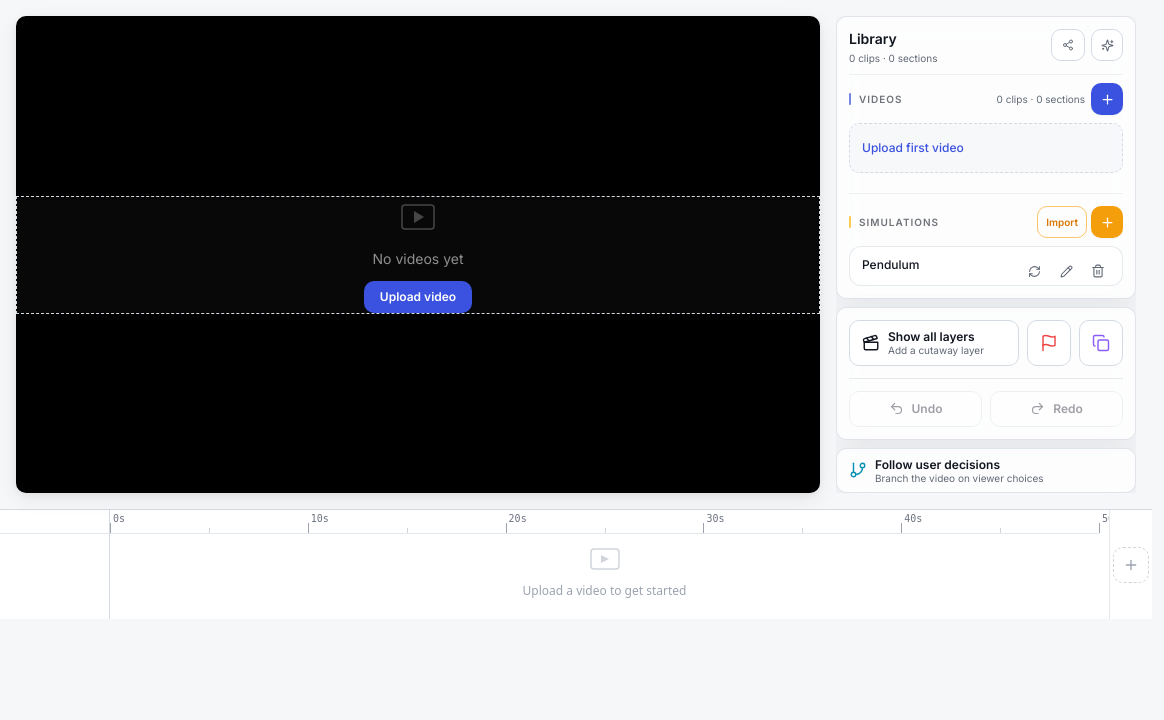
Scenario: editor — simulation rename › rolls the name back and tells the user when the write is rejected
Click the button named "Rename simulation": click(1066, 271) [1050,255,1082,287]
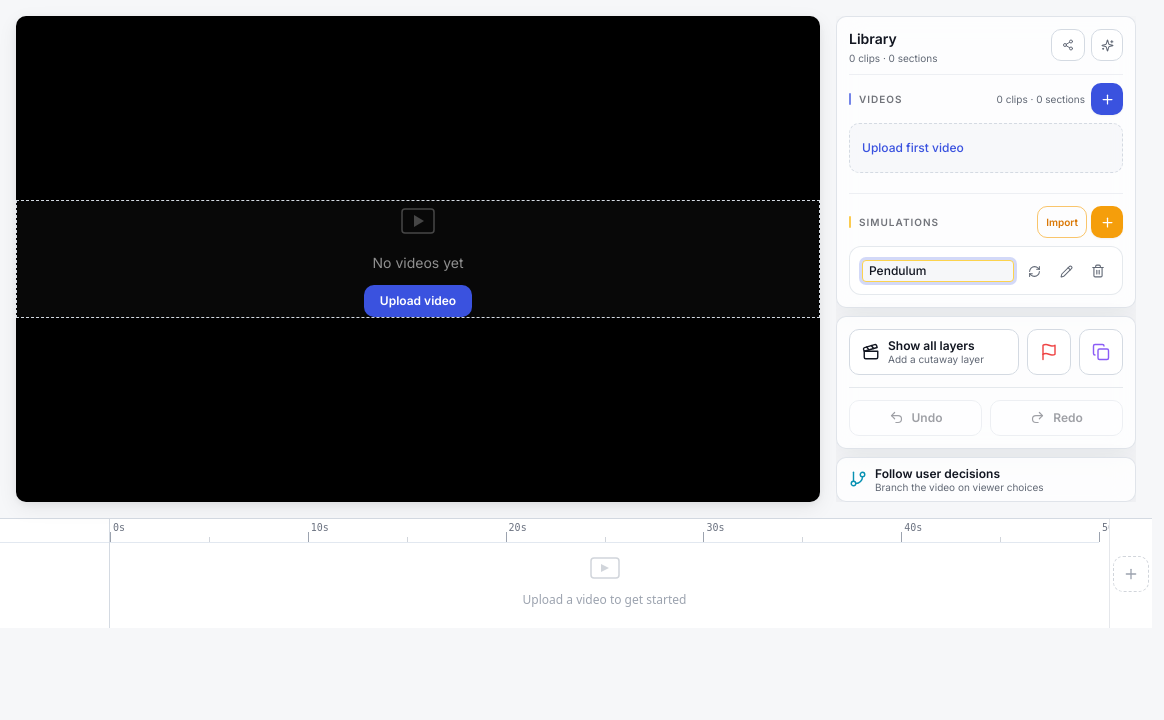
Replace the text in the field named "Simulation name" with "Double pendulum": (938, 271) [862,260,1014,282]
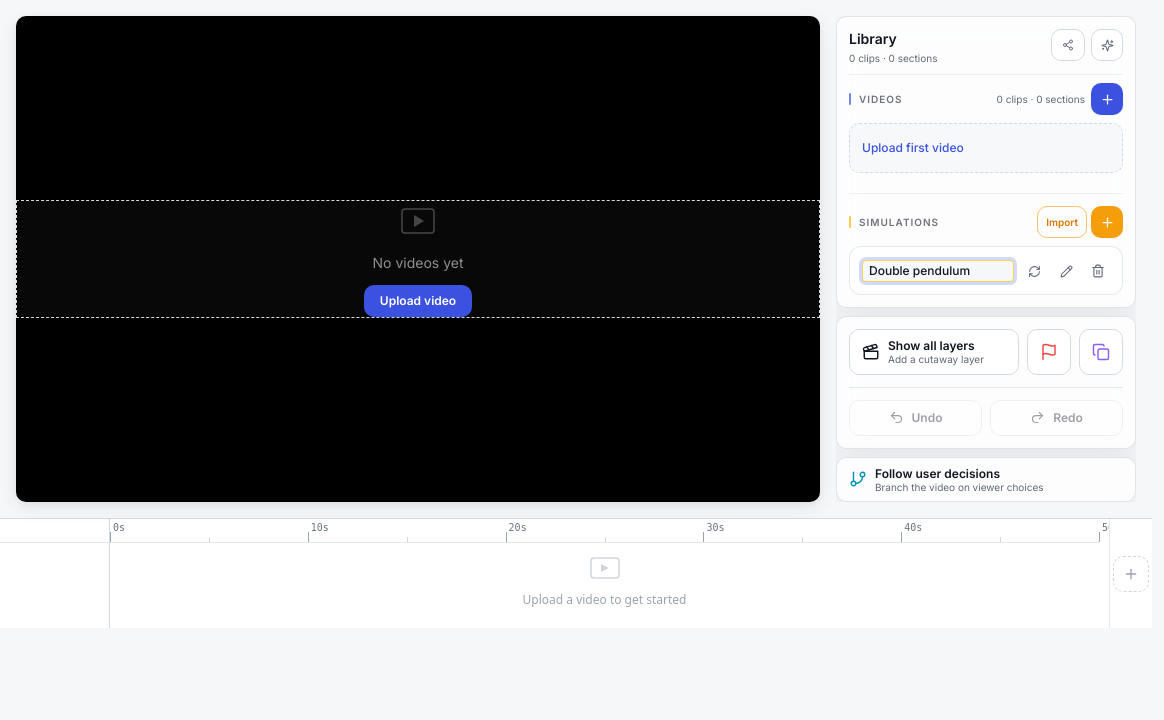
Leave the field named "Simulation name", box [862,260,1014,282]
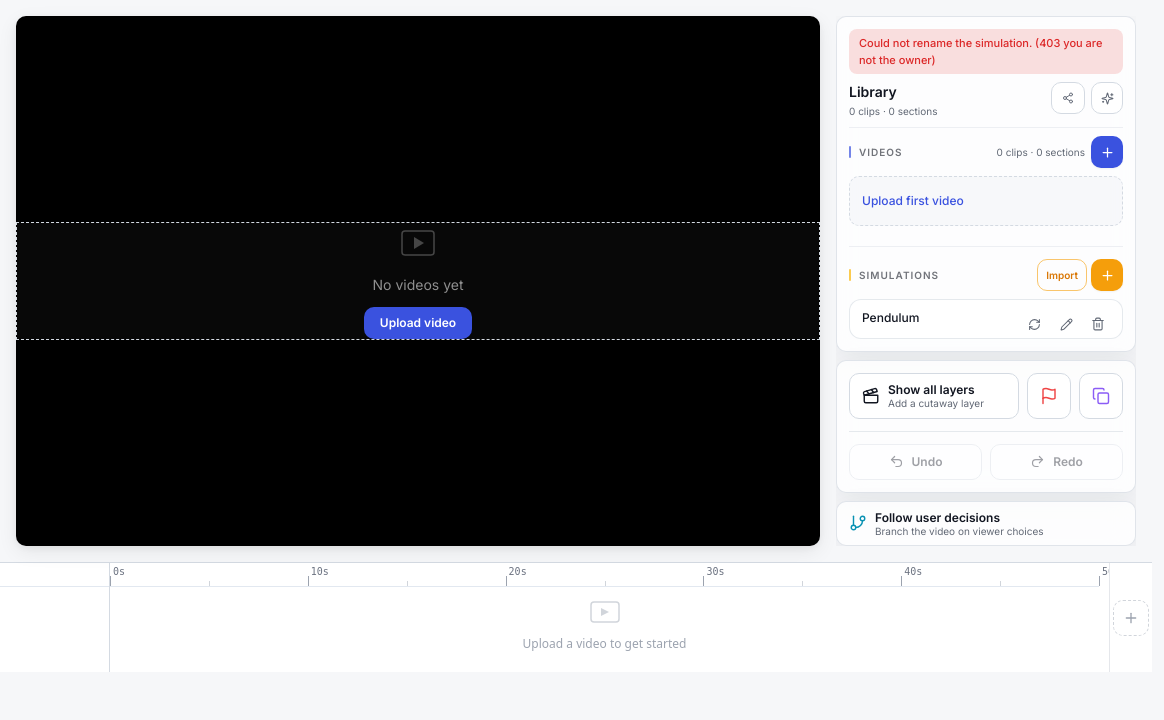
Now the text "Pendulum" is shown, box [862,310,919,325]
Now the message shows "rename", box [859,36,1102,66]
Now the message shows "403 you are not the owner", box [859,36,1102,66]
